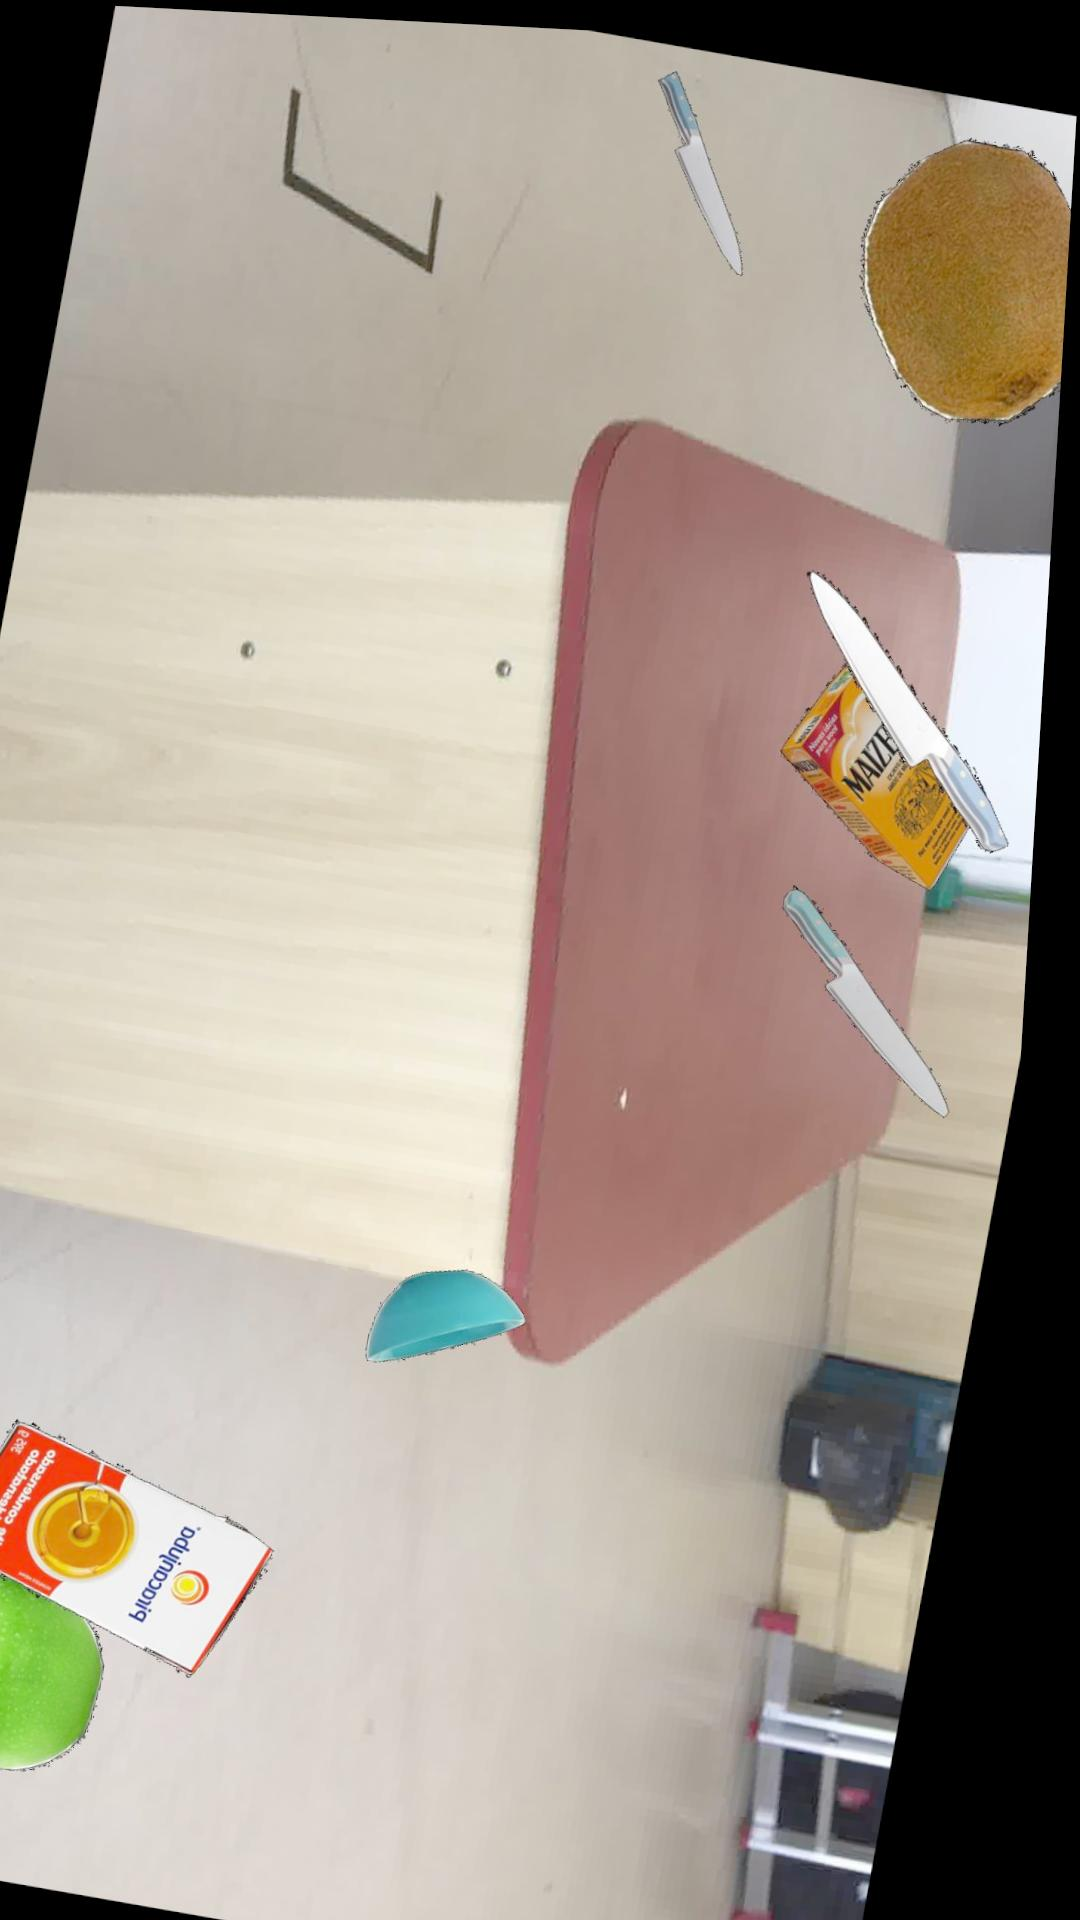bowl: (380, 1263, 539, 1357)
green apple: (0, 1569, 123, 1770)
kiwi: (860, 127, 1072, 413)
knife: (811, 562, 1015, 841), (790, 876, 960, 1106), (655, 63, 742, 268)
